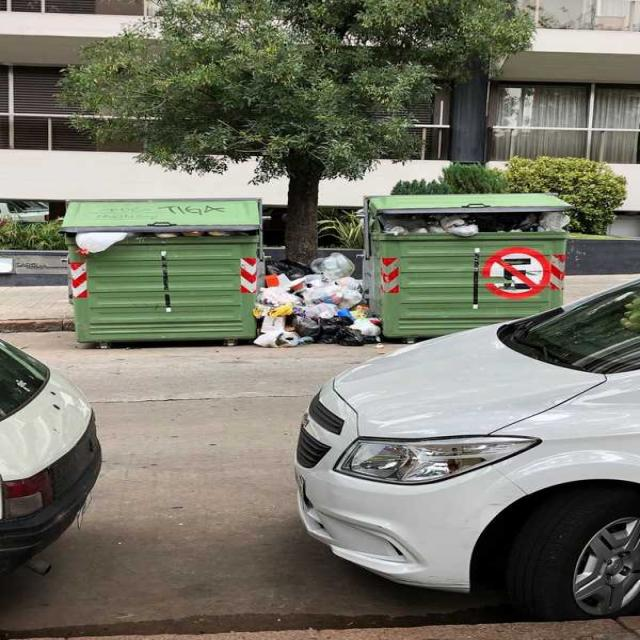garbage: (250, 252, 385, 353), (367, 202, 578, 244), (66, 220, 258, 252)
